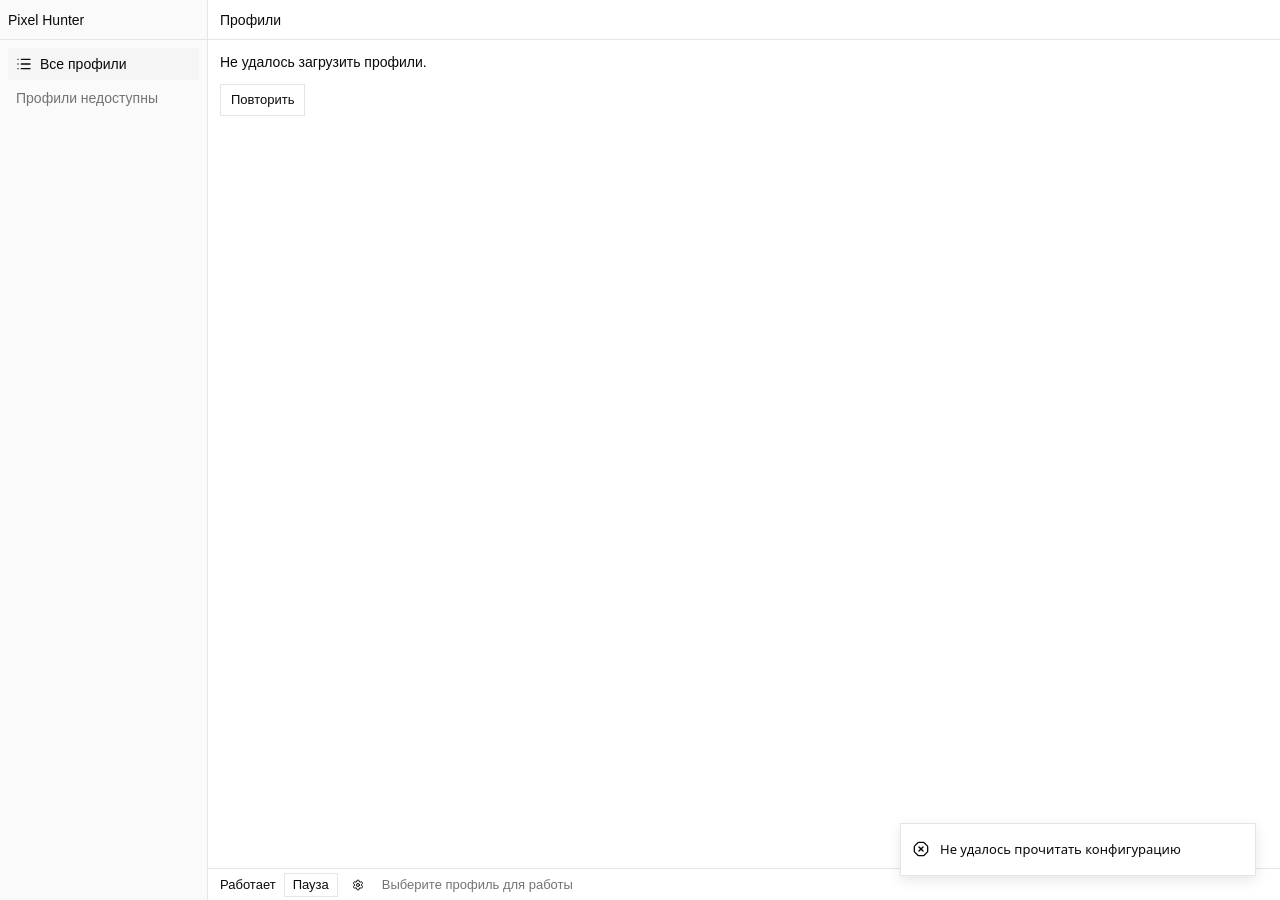
Scenario: ProfilesPage › reports a failed load and retries it
Expected: the message "Не удалось загрузить профили. Повторить" is shown, [220,54,427,116]
Expected: the text "Не удалось прочитать конфигурацию" is shown, [940,840,1181,859]
Click the button "Повторить": (263, 100) [220,84,306,116]
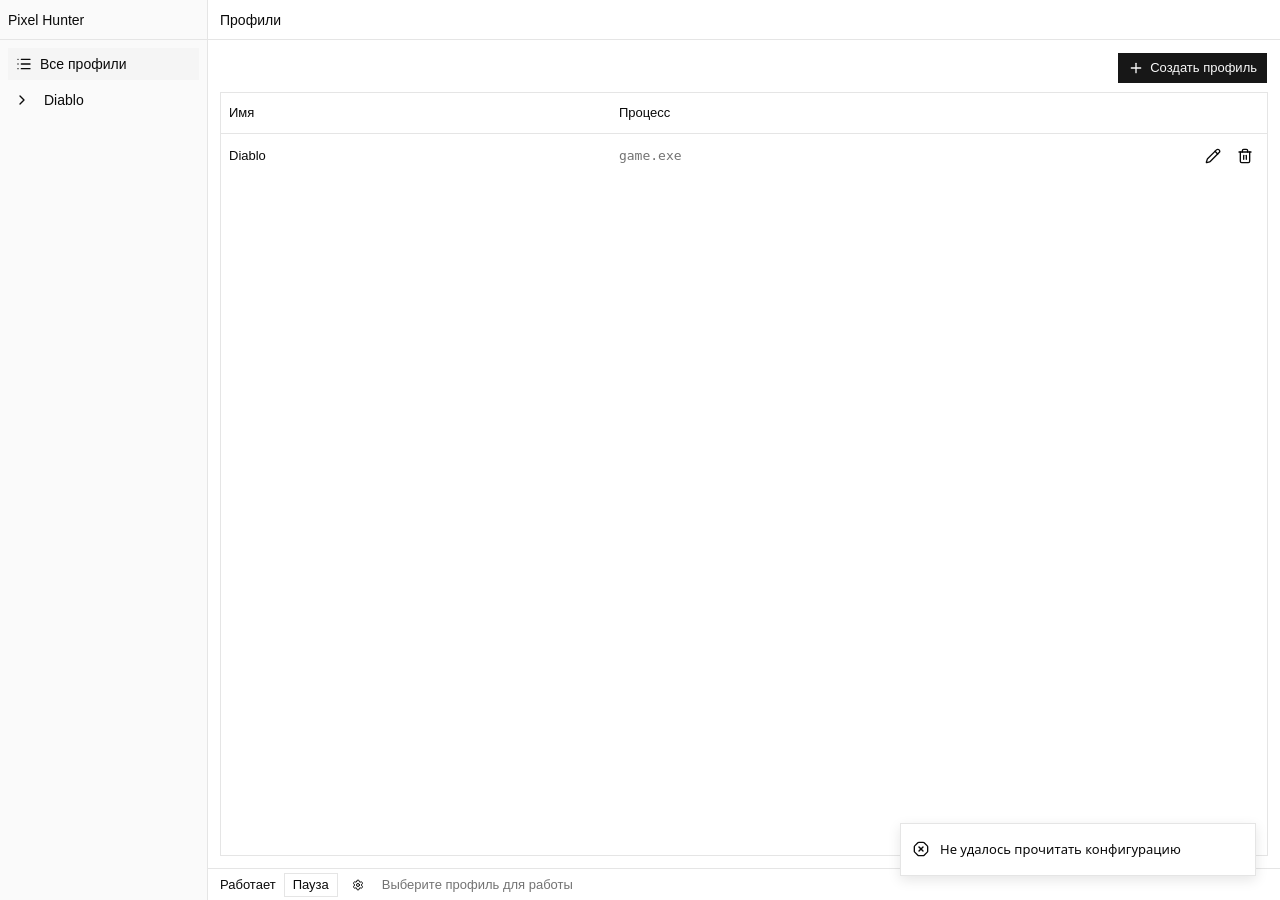
Expected: the link "Diablo" in the row of "game.exe" is shown, [229,148,266,162]
